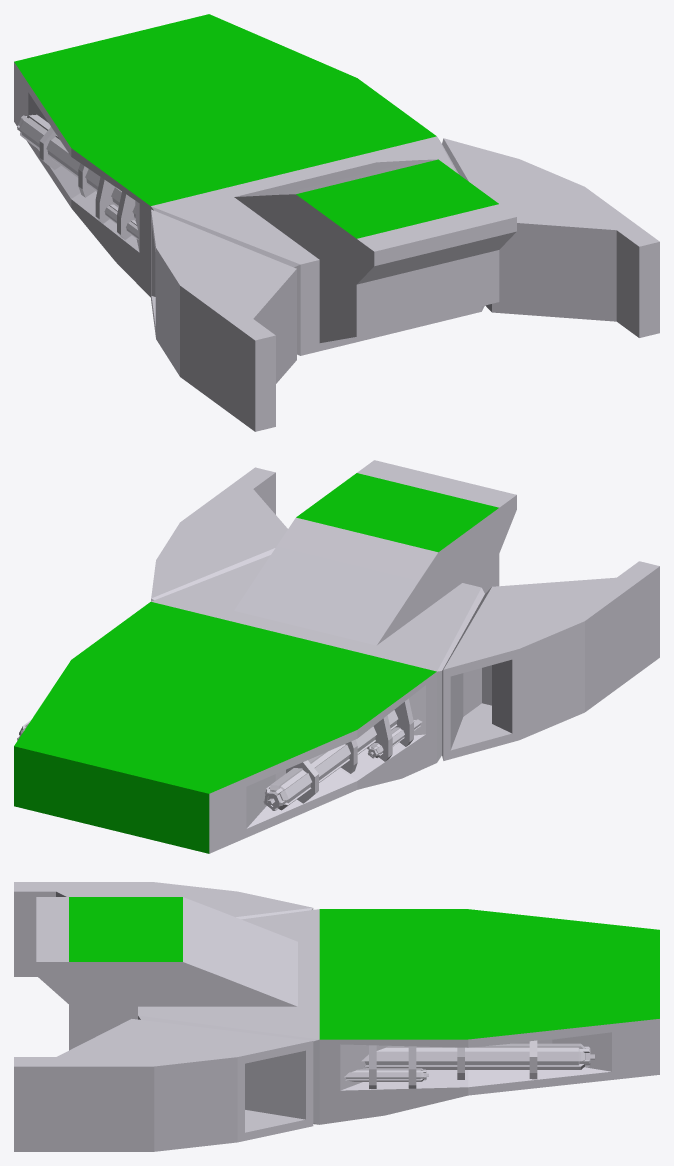
The model's file is Wing-2.fbx.
The picture shows the model from 3 angles, top to bottom: view 1: azimuth 30°, elevation 25°; view 2: azimuth 150°, elevation 25°; view 3: azimuth 270°, elevation 25°; orthographic projection. The views are drawn at different scales.
Visible parts, largest first — view 1: Wing-2; view 2: Wing-2; view 3: Wing-2.
Boxes of the visible parts, <box> form: Wing-2: <box>14,14,659,431</box>; Wing-2: <box>14,460,659,853</box>; Wing-2: <box>14,882,659,1151</box>.
Size of the model in its own units: 2.15 by 0.7071 by 3.18.
